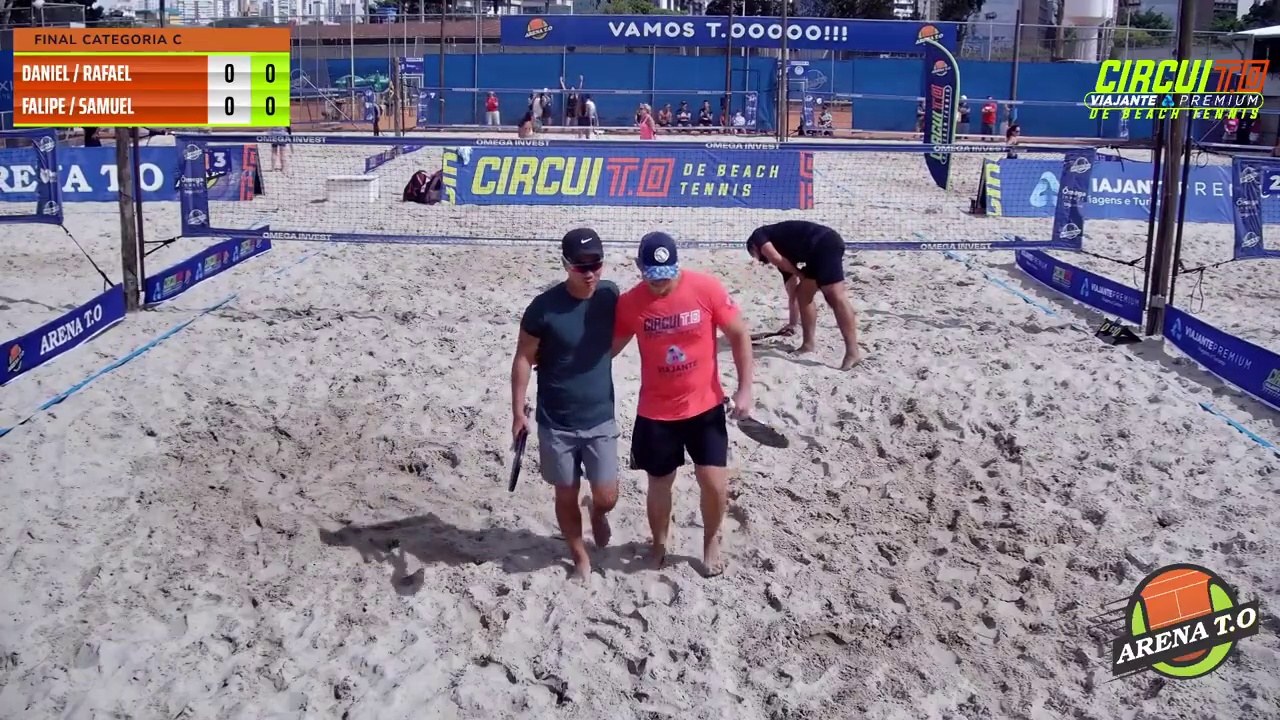court_line: (639, 0, 790, 441)
